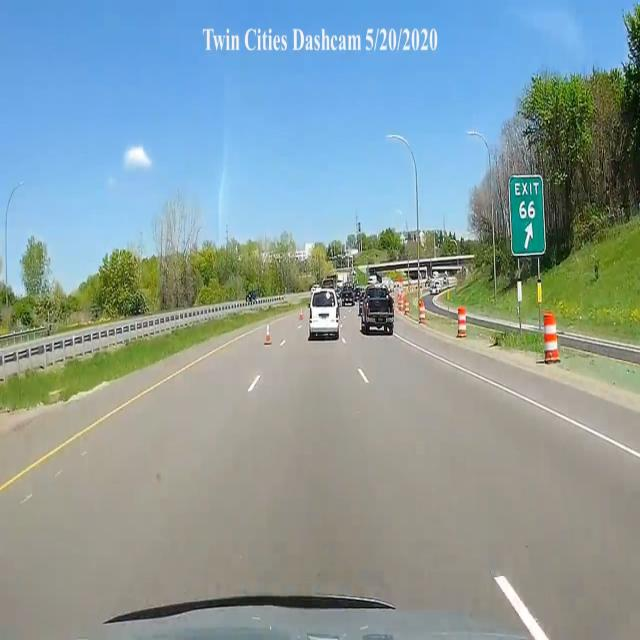cone: (266, 325, 278, 345)
